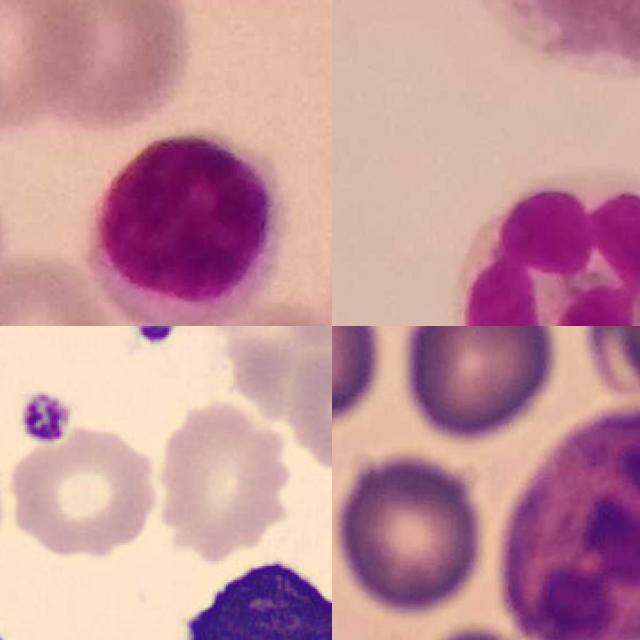Eosinophil: (460, 169, 640, 326)
Lymphocyte: (83, 129, 292, 326), (169, 545, 332, 640)
Neutrophil: (503, 411, 640, 640)
Platelets: (16, 388, 75, 446), (128, 326, 181, 349)
RBC: (150, 393, 301, 561), (0, 423, 162, 563), (281, 344, 332, 478)
